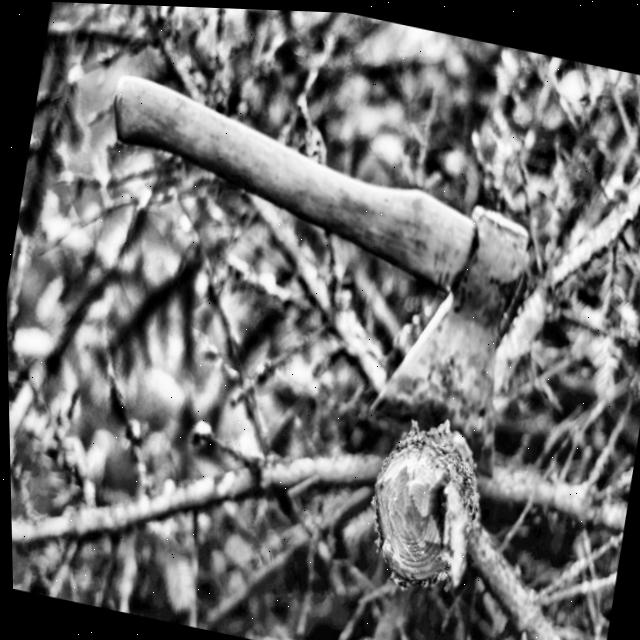kapak: (47, 46, 562, 483)
